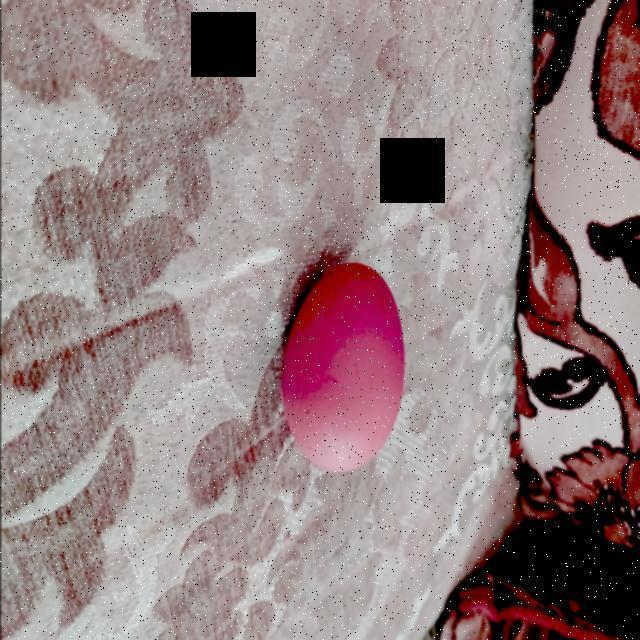egg: (278, 259, 407, 480)
